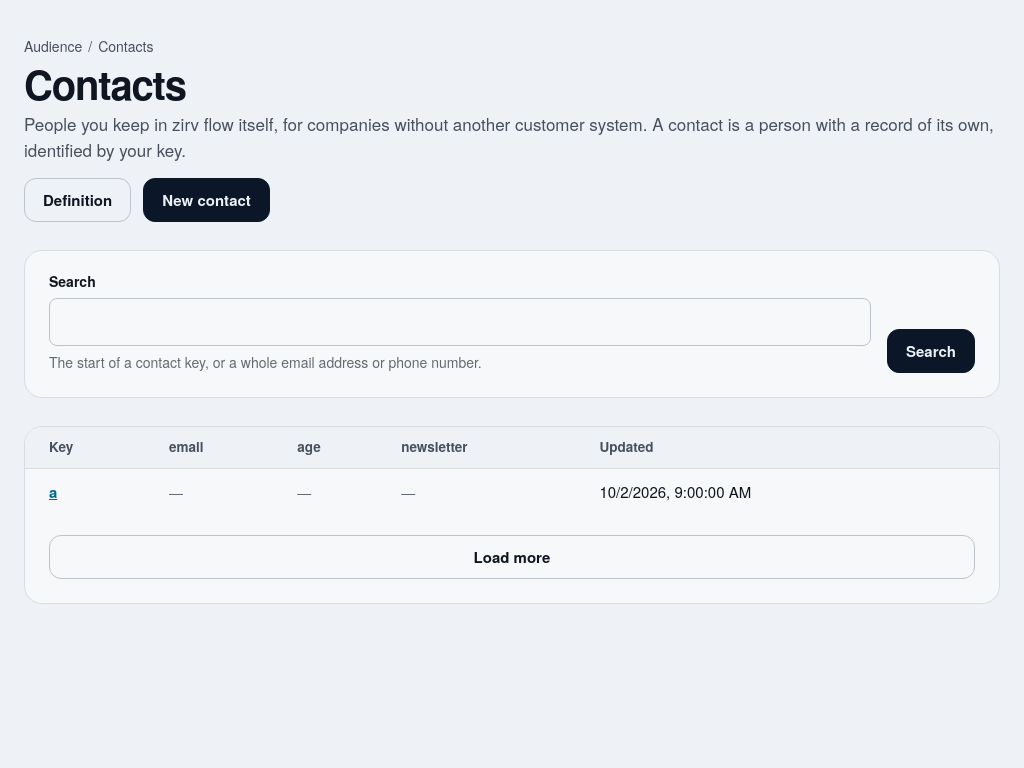
Test case: contacts list › pages by key with Load more
The width and height of the screenshot is (1024, 768).
Step 1. Click the button "Load more" → (512, 557), box [49,535,975,579]
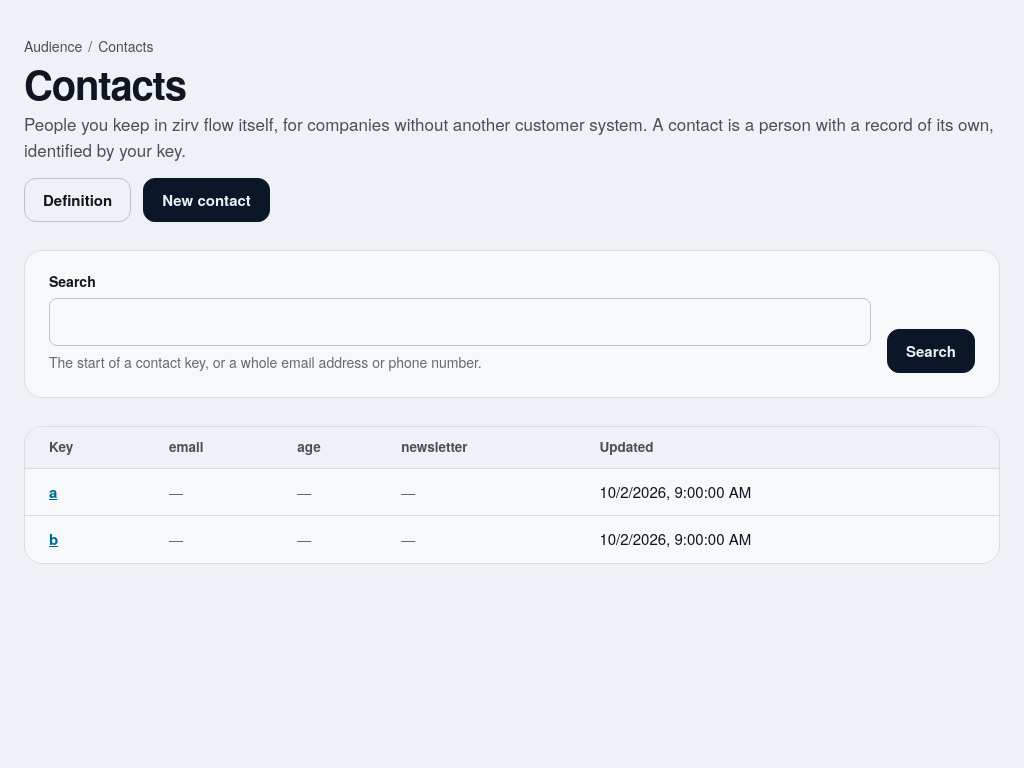
Check: the link "a" is shown, box [49,481,57,503]
Check: the link "b" is shown, box [49,528,58,550]
Check: the button "Load more" is gone
